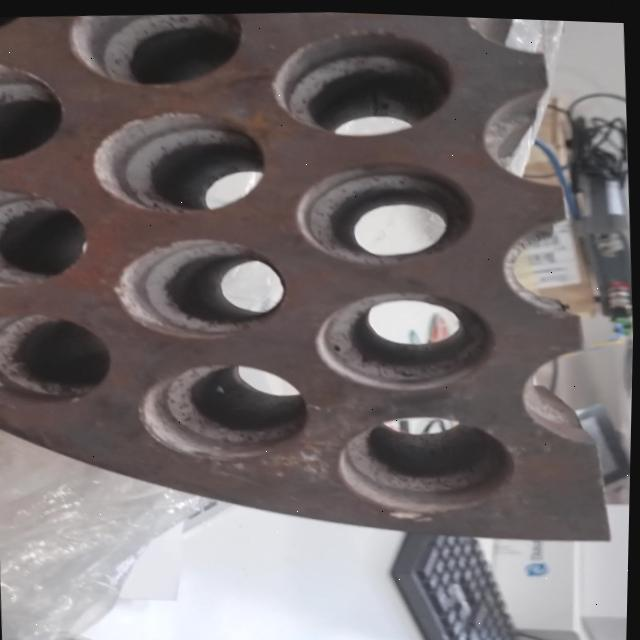Hole: (270, 20, 459, 140), (293, 154, 480, 271), (313, 280, 502, 394), (337, 405, 522, 521), (89, 102, 272, 219), (113, 228, 293, 343), (137, 356, 315, 464), (67, 5, 249, 91), (0, 308, 119, 408), (0, 185, 93, 289), (0, 57, 70, 164), (0, 14, 42, 41)
